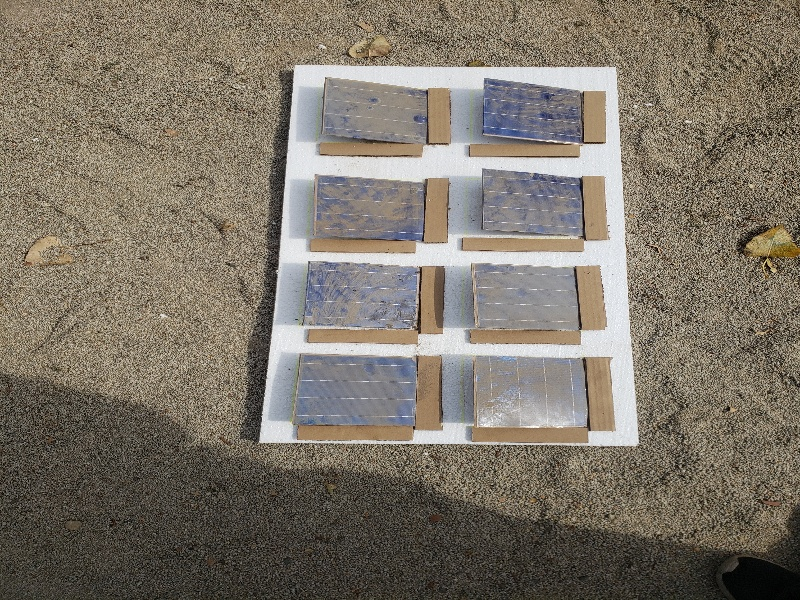dirty: (294, 353, 420, 428), (472, 355, 590, 430), (314, 173, 431, 244), (306, 261, 420, 331), (322, 74, 431, 145), (468, 264, 581, 332), (481, 168, 591, 235), (480, 81, 591, 143)
